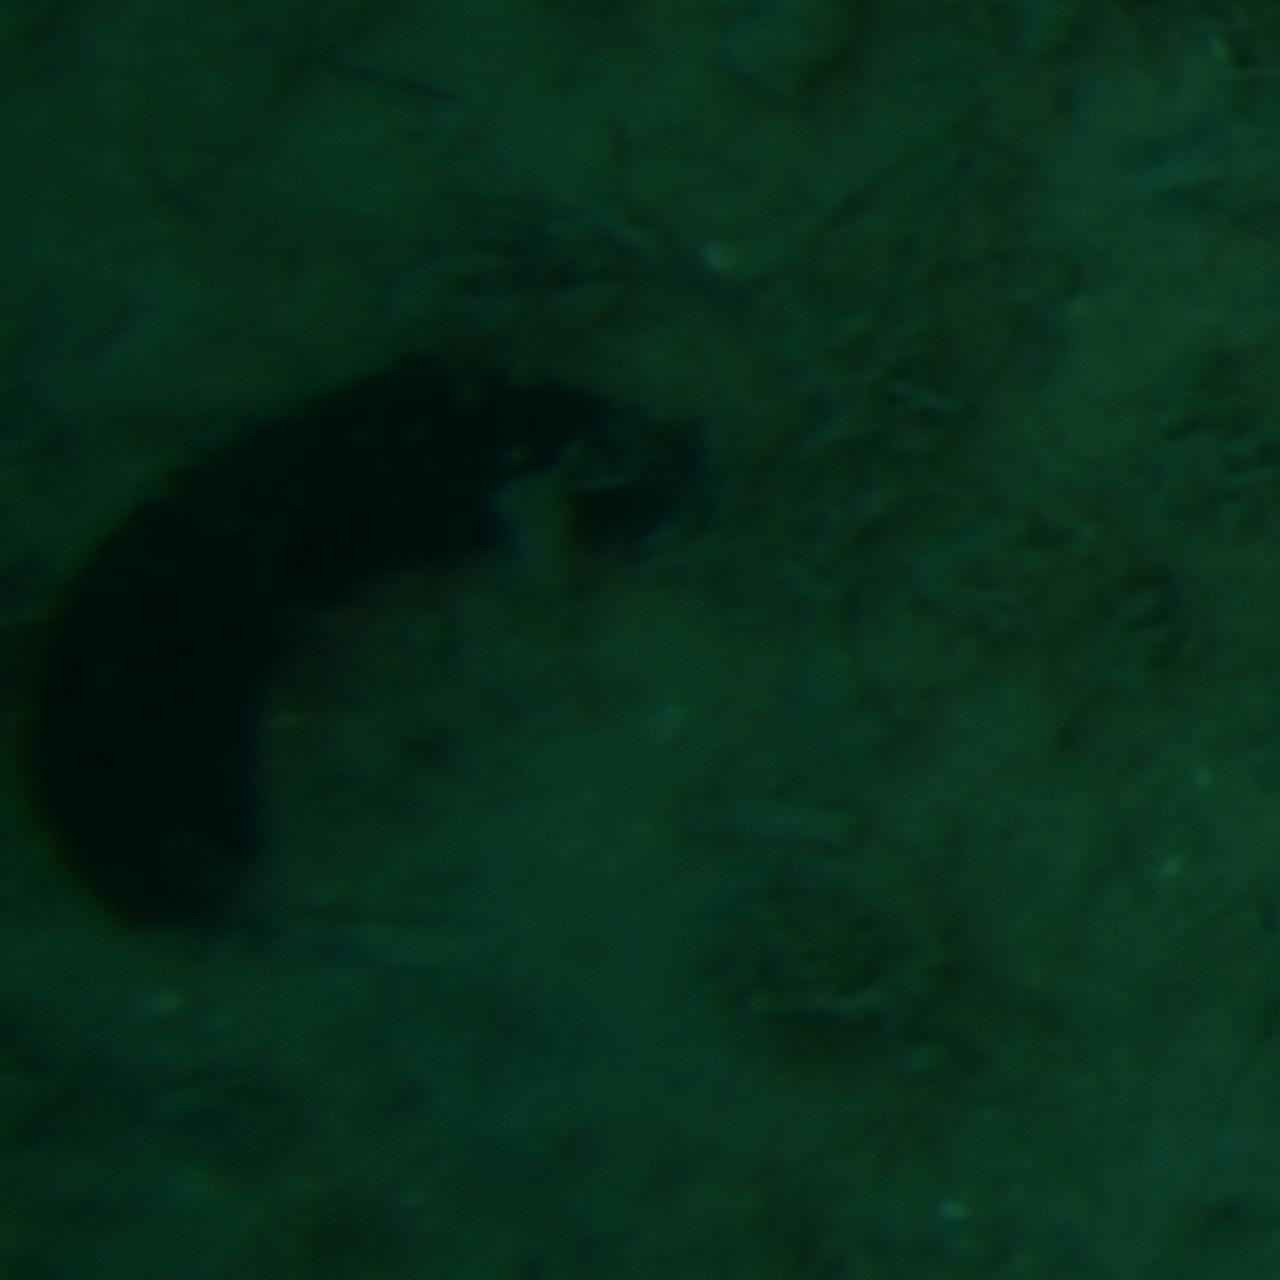Holothuria tubulosa: (28, 331, 717, 949)
